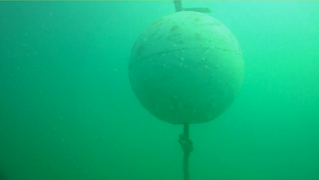buoy: (128, 10, 246, 125)
